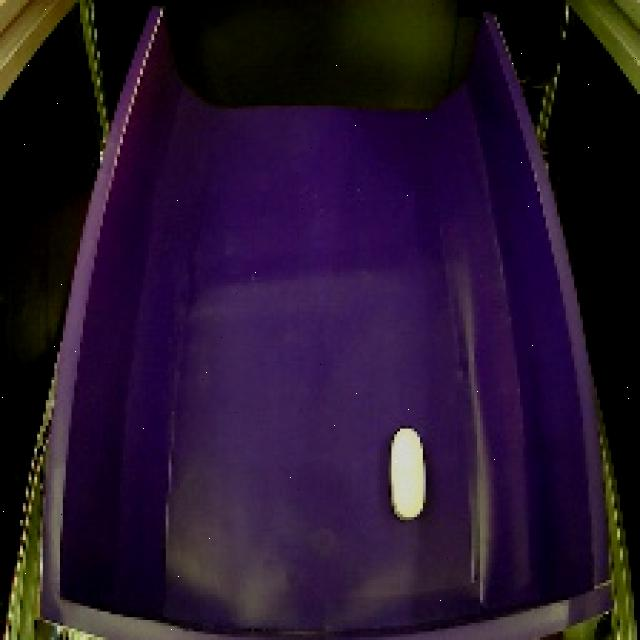small: (384, 420, 432, 524)
